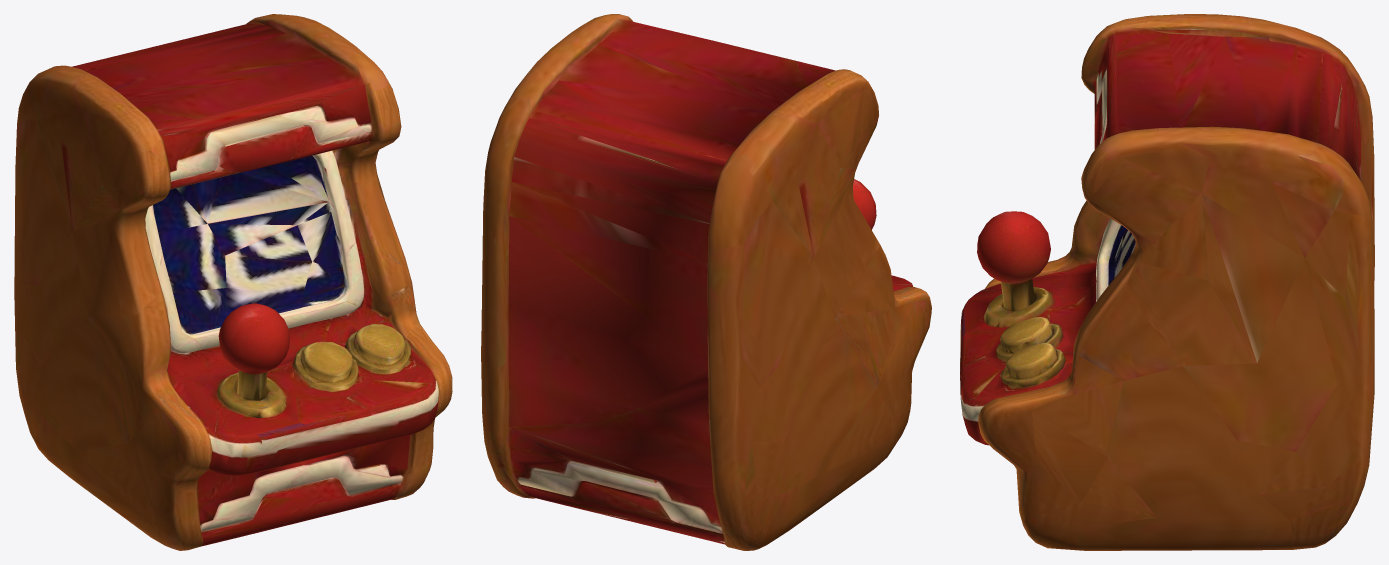
File: quarter_eater.glb
3 views of the same model, side by side, from view 1: azimuth 30°, elevation 25°; view 2: azimuth 150°, elevation 25°; view 3: azimuth 270°, elevation 25° (orthographic). The views are drawn at different scales.
Size of the model in its own units: 0.7083 by 1 by 0.8993.
Materials: 1 (1 with a texture image).
